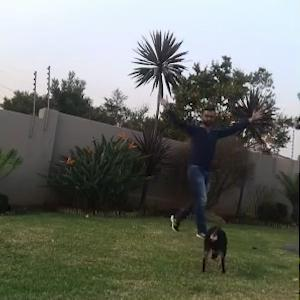takeoff: (168, 79, 261, 246)
